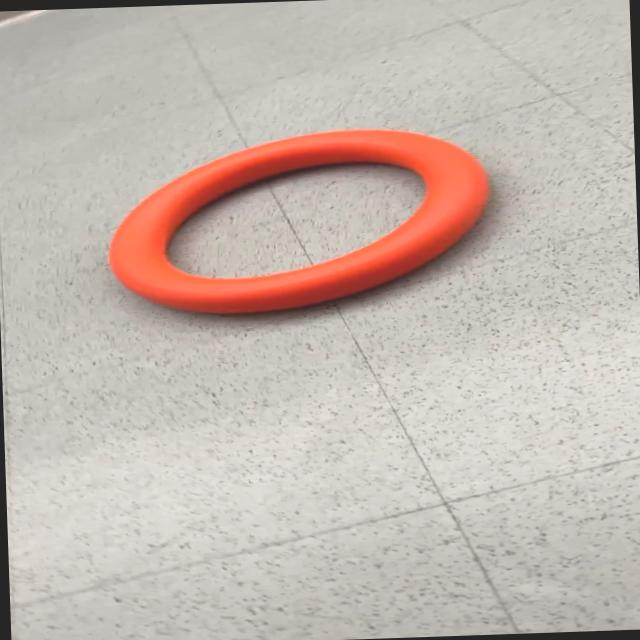note: (102, 123, 496, 320)
